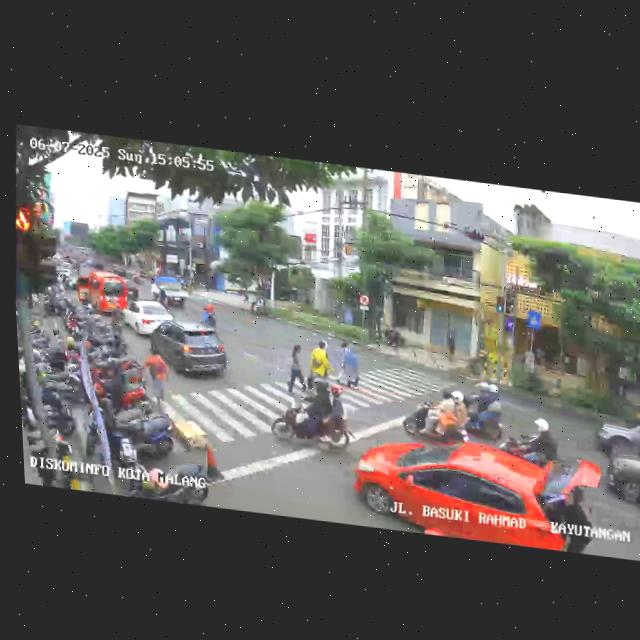car: (348, 425, 609, 557), (148, 316, 233, 386), (76, 269, 130, 316), (604, 439, 640, 507), (121, 297, 176, 340), (597, 411, 640, 459), (149, 273, 190, 309), (117, 278, 141, 301)
motorcycle: (268, 370, 359, 458), (400, 383, 473, 448), (494, 412, 567, 477), (448, 377, 505, 445), (200, 298, 220, 334), (156, 284, 169, 309)
person: (138, 348, 173, 409), (284, 341, 310, 398), (306, 340, 334, 391), (343, 342, 364, 390), (313, 339, 332, 390), (336, 339, 351, 389), (242, 287, 249, 304)
